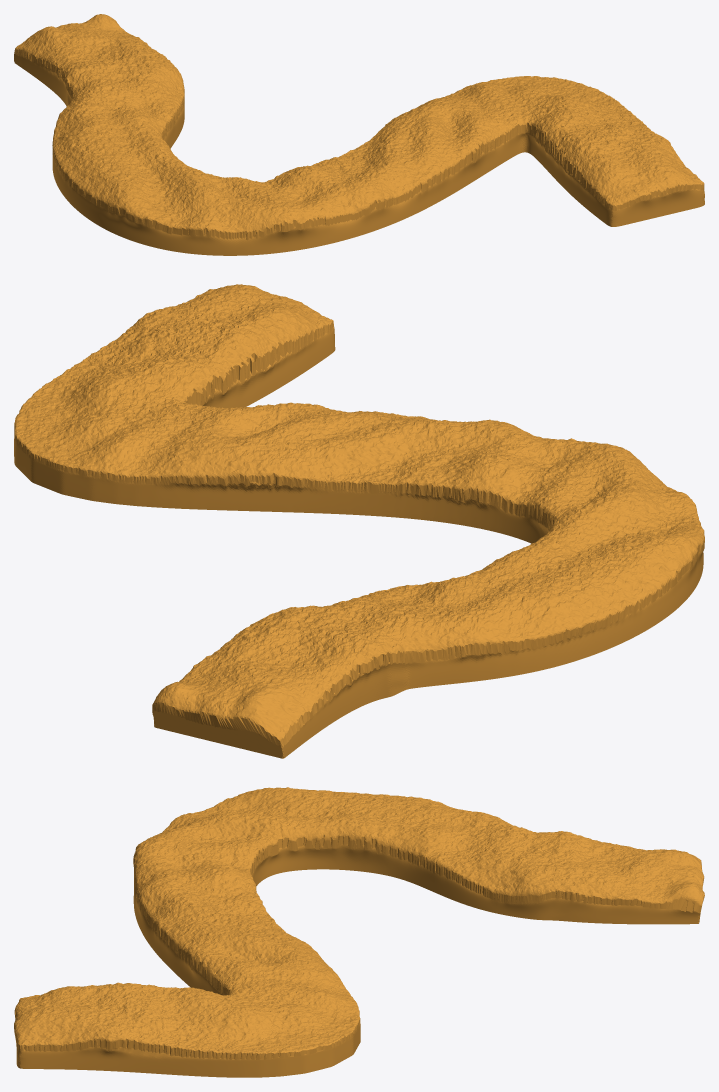
The model's file is Pathway_01.glb.
3 renders of one model, top to bottom at view 1: azimuth 30°, elevation 25°; view 2: azimuth 150°, elevation 25°; view 3: azimuth 270°, elevation 25°, orthographic. The views are drawn at different scales.
Visible parts, largest first — view 1: Tube; view 2: Tube; view 3: Tube.
Part boxes in pixels (x1,y1,x2,y2): Tube: (14, 14, 704, 255); Tube: (14, 284, 704, 758); Tube: (14, 787, 704, 1077).
Size of the model in its own units: 16.29 by 1.4 by 18.43.
